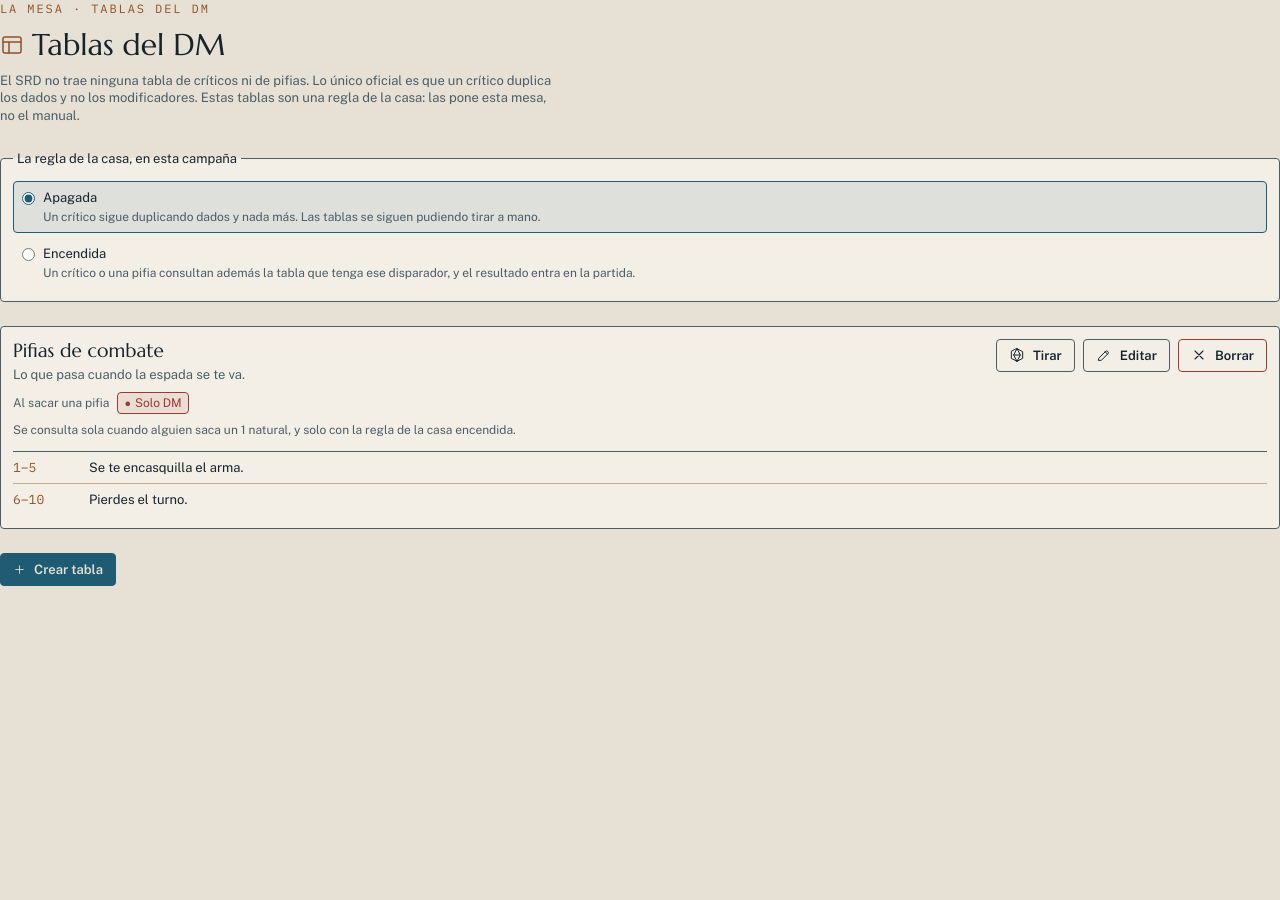
PanelDeTablas — editar una tabla (ficha C2C-6) › «Editar» abre el formulario relleno con lo que la tabla tiene ahora, filas incluidas
Click the button "Editar" at (1126, 355), box [1083,339,1170,372]
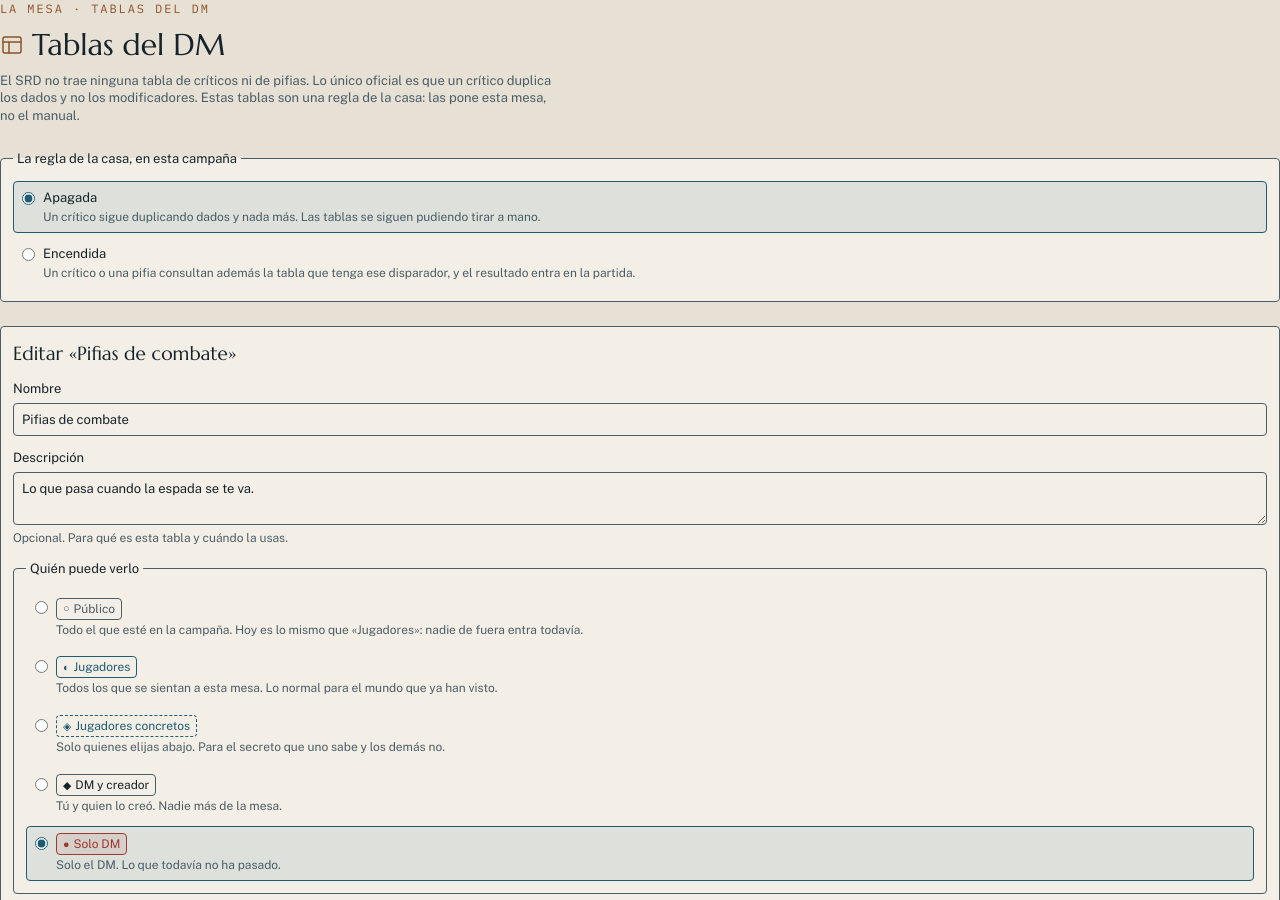
Expected: the heading "Editar «Pifias de combate»" is shown, [13,341,236,365]
Expected: the field labelled "Nombre" holds "Pifias de combate", [13,403,1267,436]
Expected: the text box labelled "Descripción" holds "Lo que pasa cuando la espada se te va.", [13,472,1267,525]
